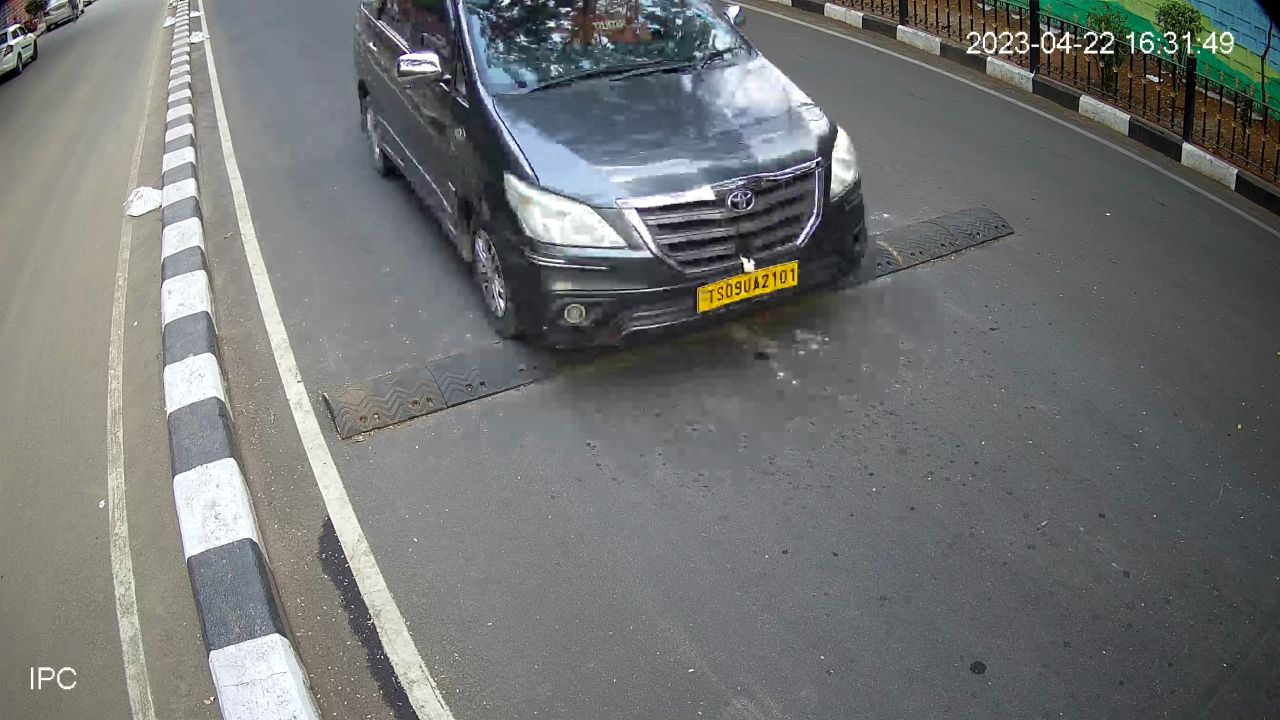license_plate: (692, 253, 804, 320)
